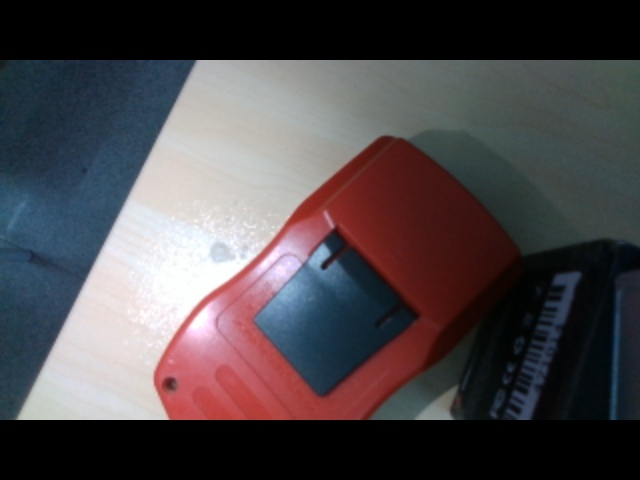Multimeter: (151, 134, 518, 421)
Screw holes: (160, 376, 181, 395)
